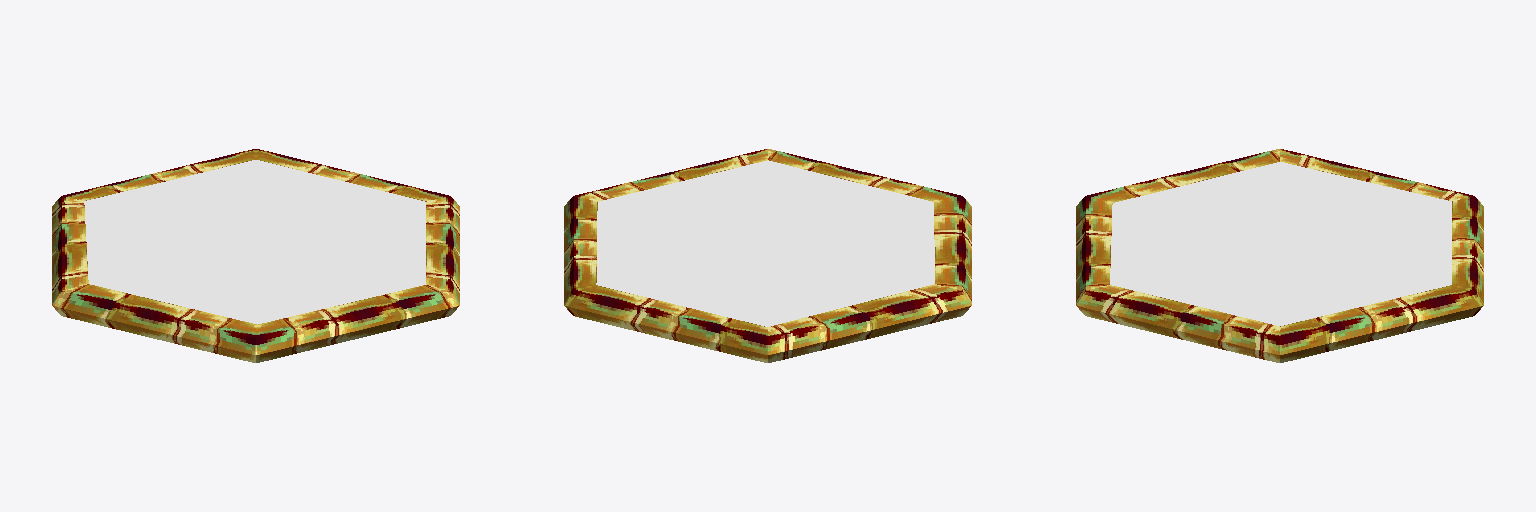
3 renders of one model, left to right at view 1: azimuth 30°, elevation 25°; view 2: azimuth 150°, elevation 25°; view 3: azimuth 270°, elevation 25°, orthographic.
Visible parts, largest first — view 1: fb_platform; view 2: fb_platform; view 3: fb_platform.
Part boxes in pixels (x1,y1,x2,y2): fb_platform: (52,149,459,362); fb_platform: (564,149,971,362); fb_platform: (1076,149,1483,362).
Size of the model in its own units: 16.79 by 1 by 14.54.
2 materials, 1 textured.